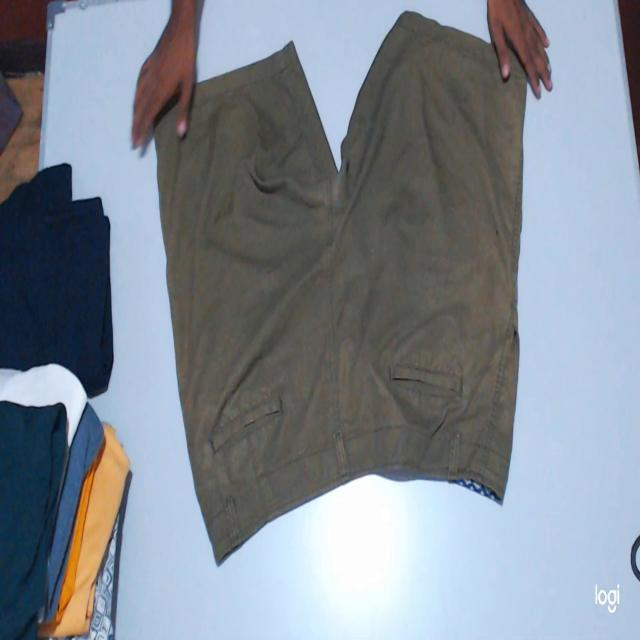new-garment: (155, 12, 527, 562)
